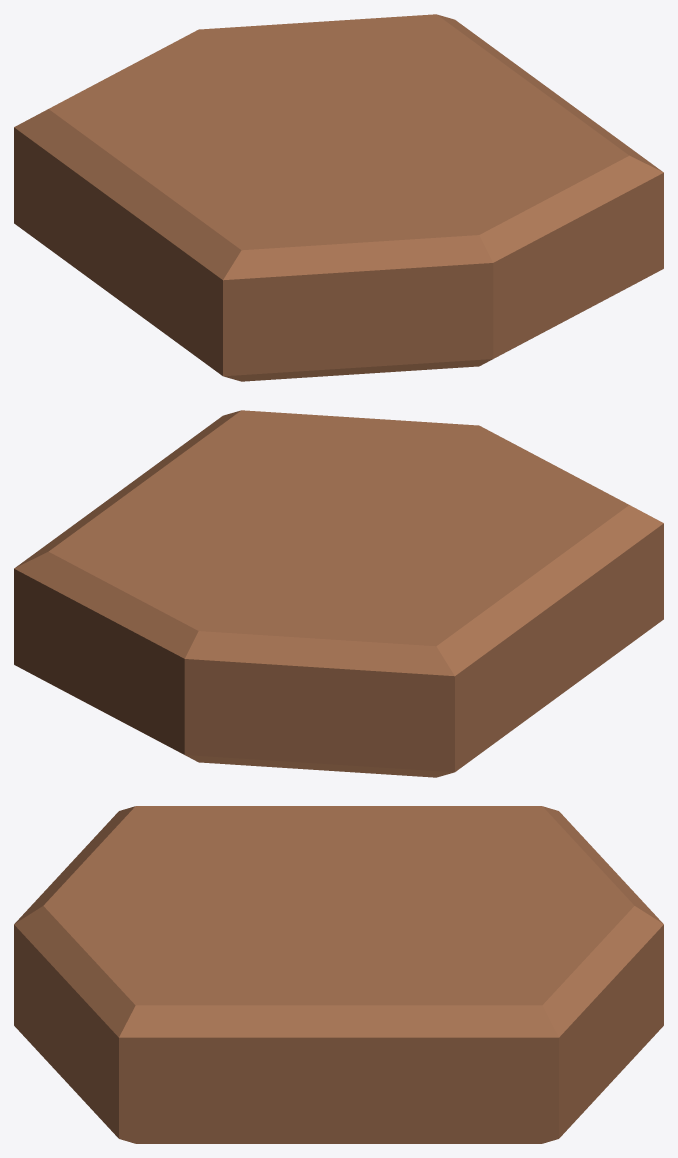
Rendered from islotecasa2.fbx.
The picture shows the model from 3 angles, top to bottom: view 1: azimuth 30°, elevation 25°; view 2: azimuth 150°, elevation 25°; view 3: azimuth 270°, elevation 25°; orthographic projection. The views are drawn at different scales.
Parts seen in each view (by area): view 1: Cube.001; view 2: Cube.001; view 3: Cube.001.
Part boxes in pixels (<box>): Cube.001: <box>14,14,663,381</box>; Cube.001: <box>14,410,663,777</box>; Cube.001: <box>14,806,663,1143</box>.
Bounding box in the file's own units: 200 × 56.95 × 242.
